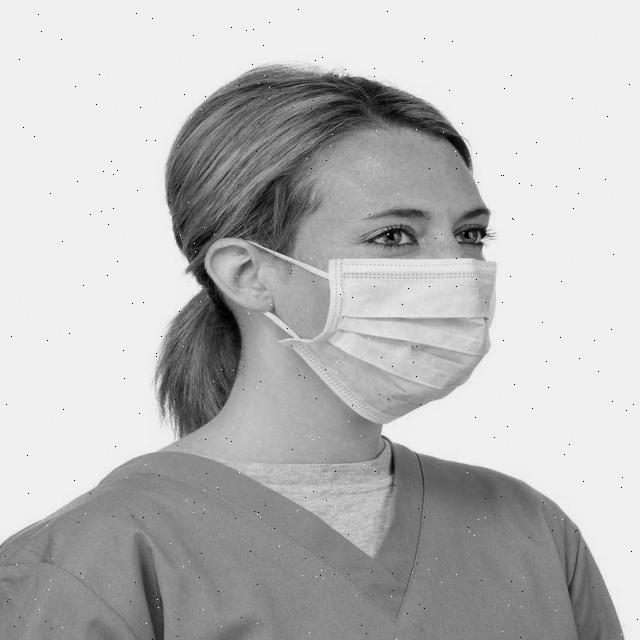fake: (299, 251, 506, 430)
real: (294, 126, 492, 427)
